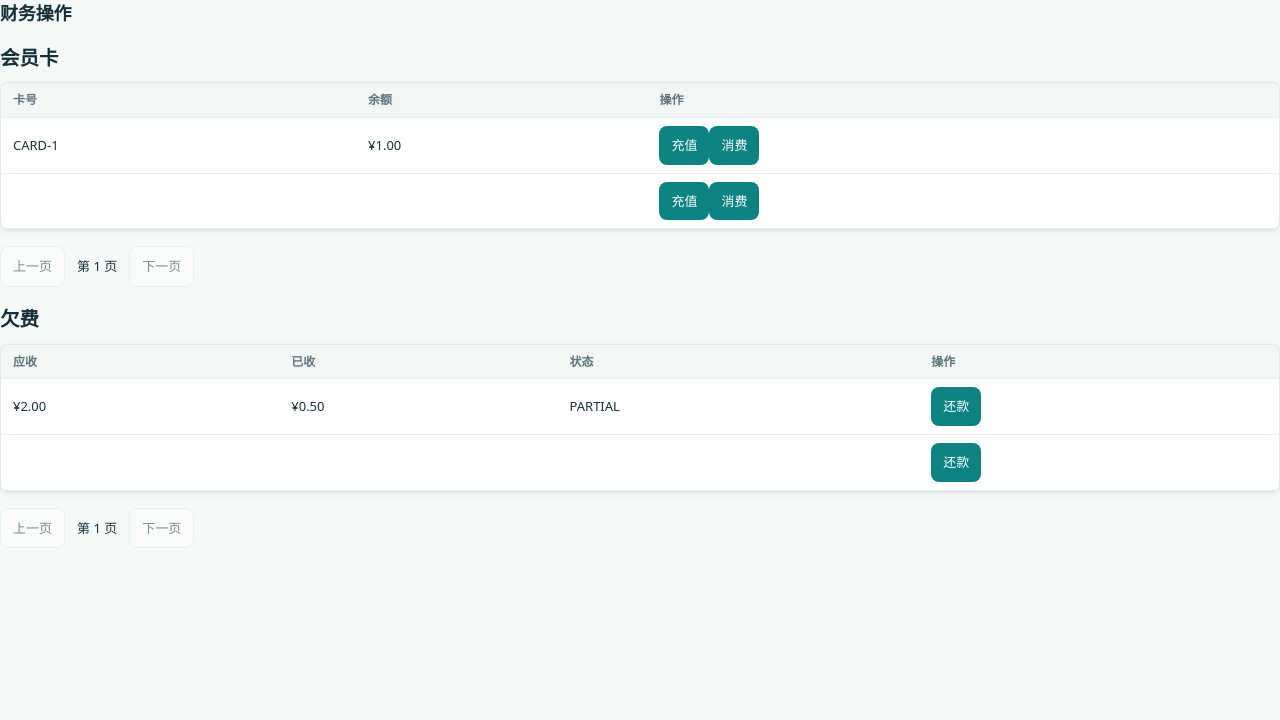
Test case: FinanceWorkflowPage › cancels the amount dialog
Click the button "充值" in the row of "CARD-1" at (684, 145), box 660,126 -> 710,165
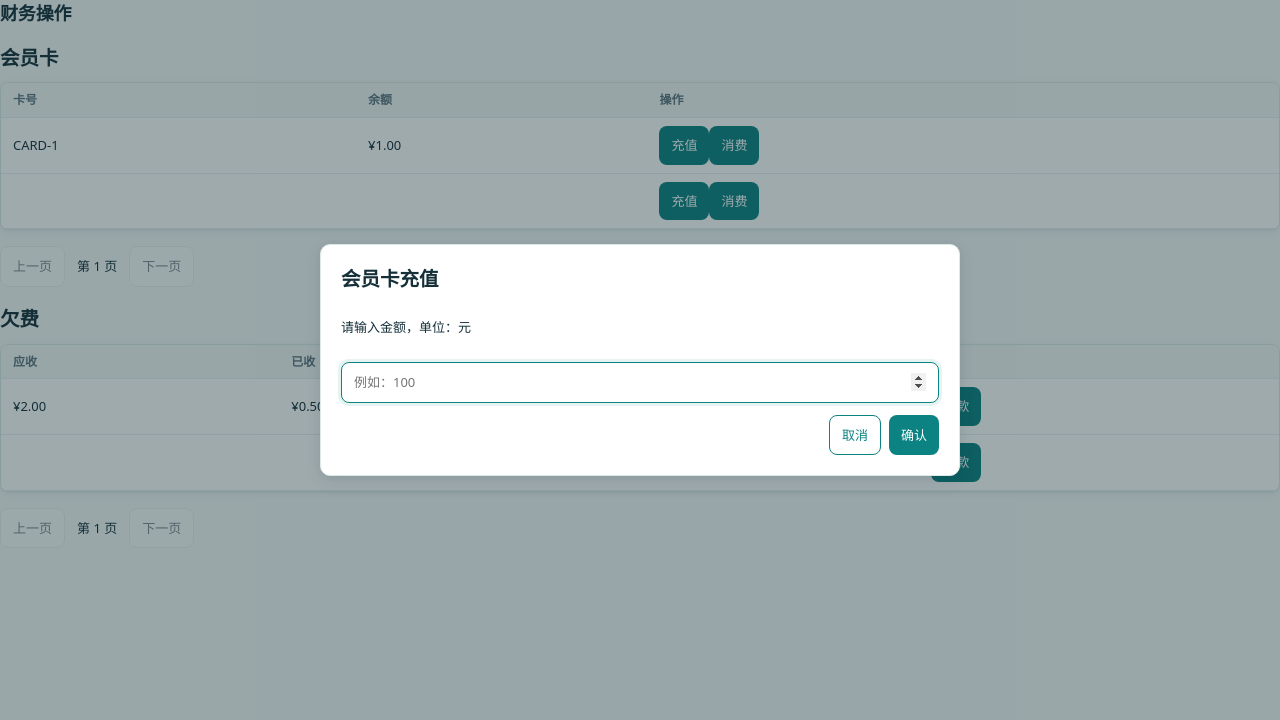
Click the button "取消" at (855, 435), box 829,414 -> 881,455
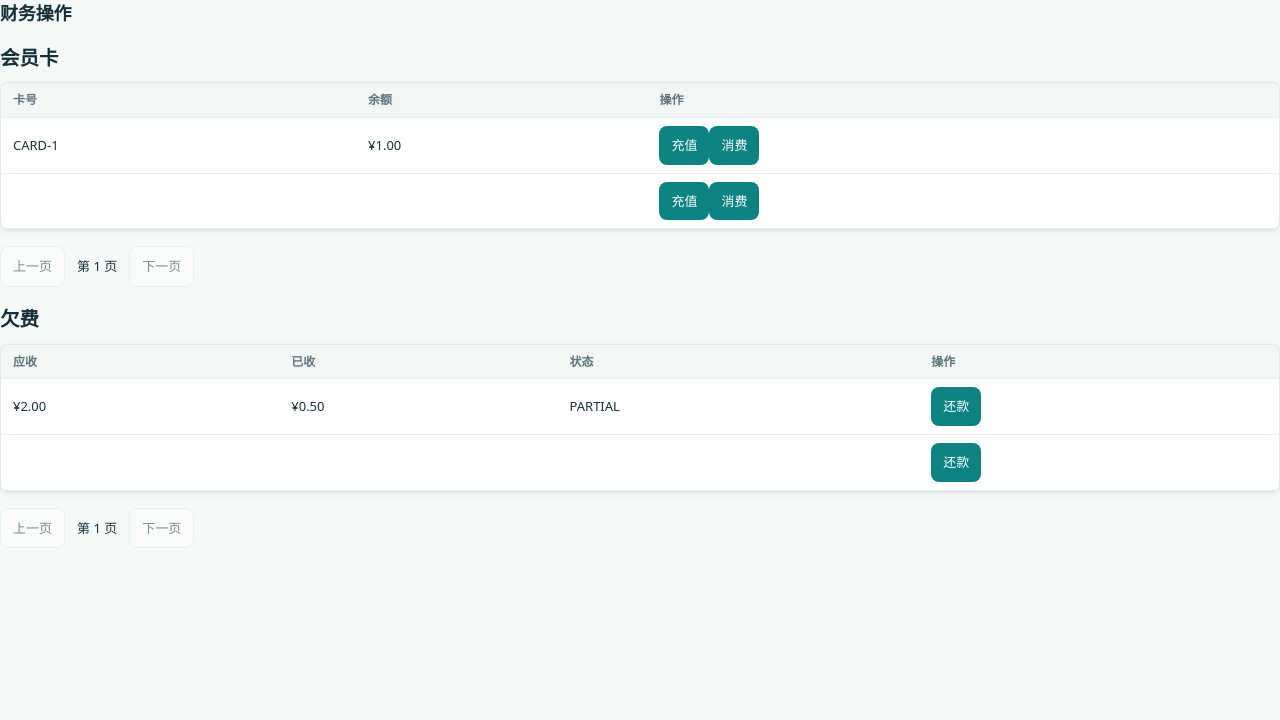
expect the dialog is gone: met
